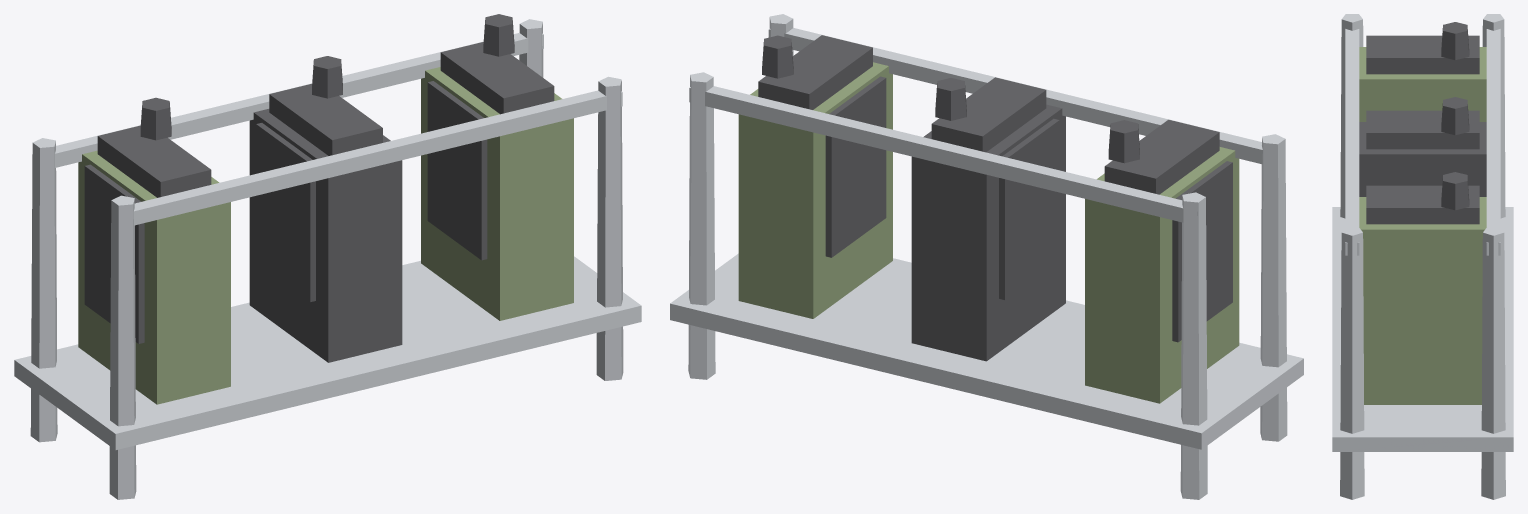
The model's file is safari-camp-and-bush-lodge-jerrycan-rack-54ef21e7__37698.glb.
3 renders of one model, left to right at view 1: azimuth 30°, elevation 25°; view 2: azimuth 150°, elevation 25°; view 3: azimuth 270°, elevation 25°, orthographic. The views are drawn at different scales.
Parts seen in each view (by area): view 1: jerrycan-rack-steel, jerrycan-rack-charcoal, jerrycan-rack-scrub; view 2: jerrycan-rack-steel, jerrycan-rack-charcoal, jerrycan-rack-scrub; view 3: jerrycan-rack-steel, jerrycan-rack-scrub, jerrycan-rack-charcoal.
Boxes of the visible parts, x1,y1,x2,y2 form: jerrycan-rack-steel: (14,19,641,499); jerrycan-rack-charcoal: (84,14,554,362); jerrycan-rack-scrub: (78,67,573,404); jerrycan-rack-steel: (670,14,1303,499); jerrycan-rack-charcoal: (758,35,1232,361); jerrycan-rack-scrub: (738,62,1239,403); jerrycan-rack-steel: (1332,14,1513,499); jerrycan-rack-scrub: (1359,47,1486,404); jerrycan-rack-charcoal: (1359,22,1486,224).
Bounding box in the file's own units: 1.35 × 0.8001 × 0.4499.
